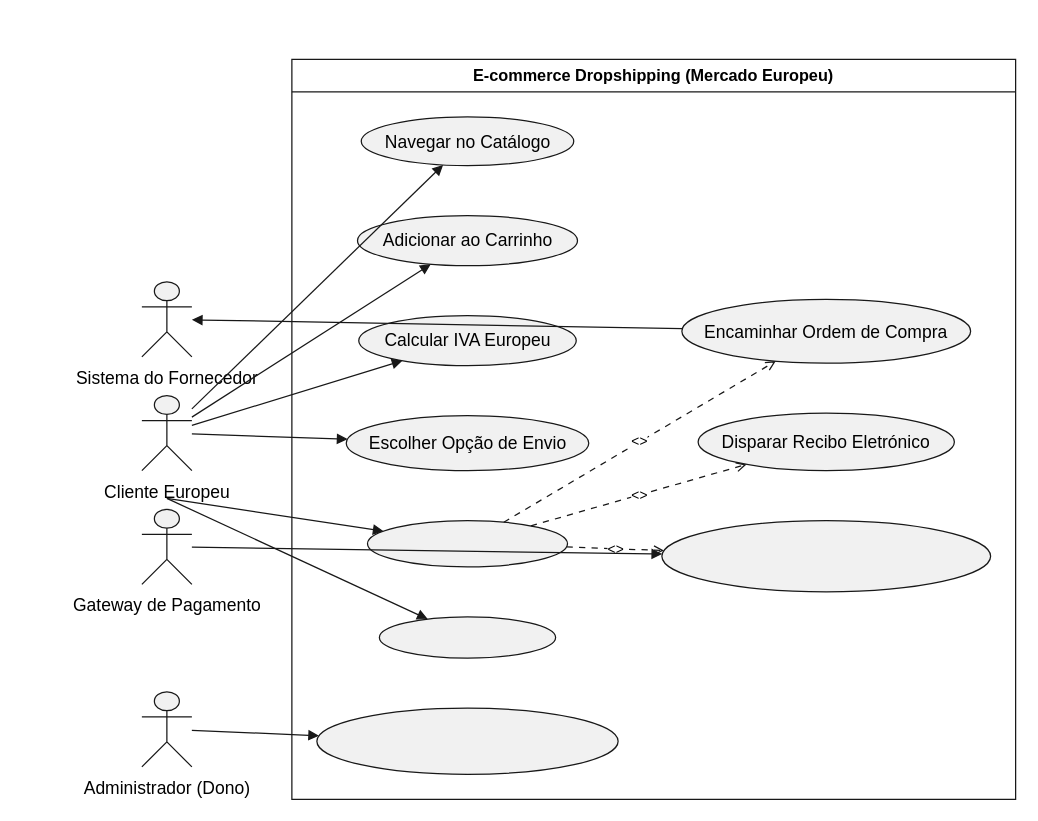
This 1038x821 diagram has some shape labels left out. The box of each missing label's shape, as (x1, y1, x2, y2) in pixels:
Finalizar Checkout: (366, 519, 568, 567)
Gerir Catálogo (Ativar/Inativar): (316, 707, 618, 774)
Processar Pagamento Criptografado: (661, 519, 991, 592)
Rastrear Pedido: (378, 616, 556, 658)
